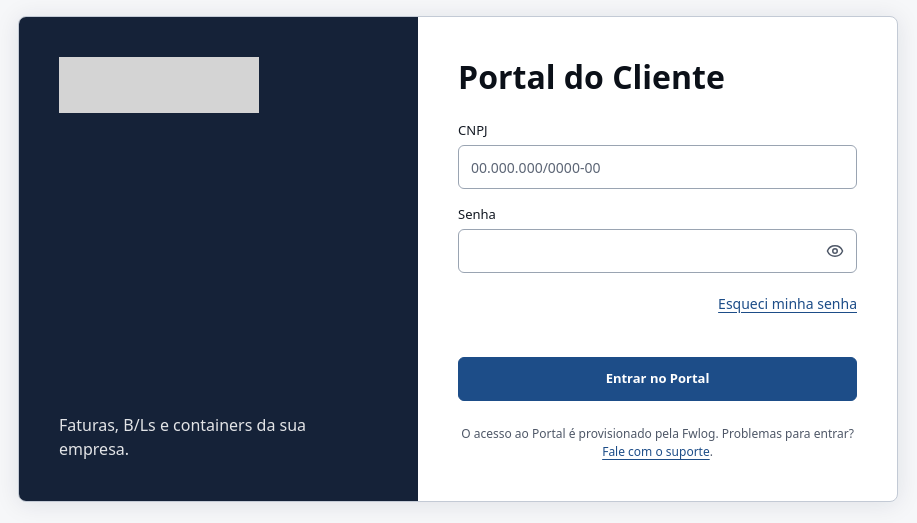
normaliza um CNPJ formatado completo depois que o campo aceita a máscara
Type "55.115.118/0001-57" into the field with placeholder "00.000.000/0000-00".
click(658, 167); type("55.115.118/0001-57")  # box top-left (458, 145), bottom-right (857, 189)
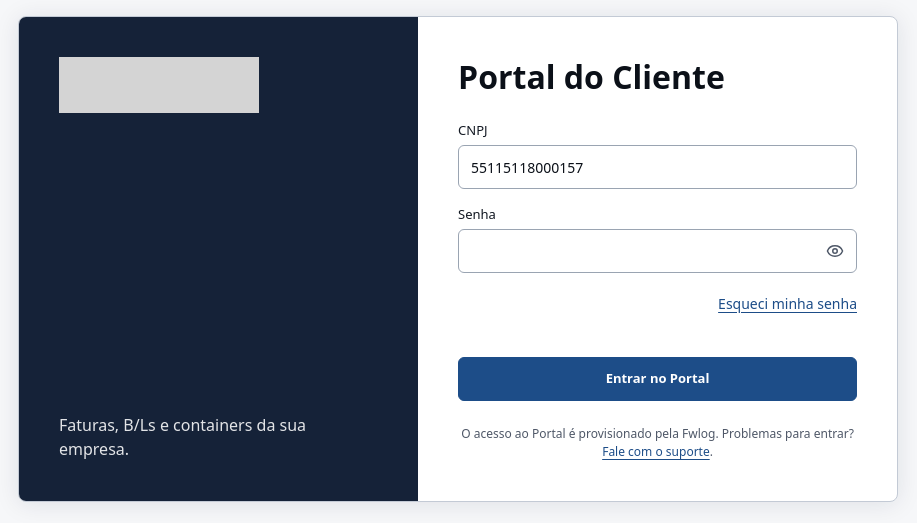
Now the field with placeholder "00.000.000/0000-00" holds "55115118000157", box top-left (458, 145), bottom-right (857, 189)
